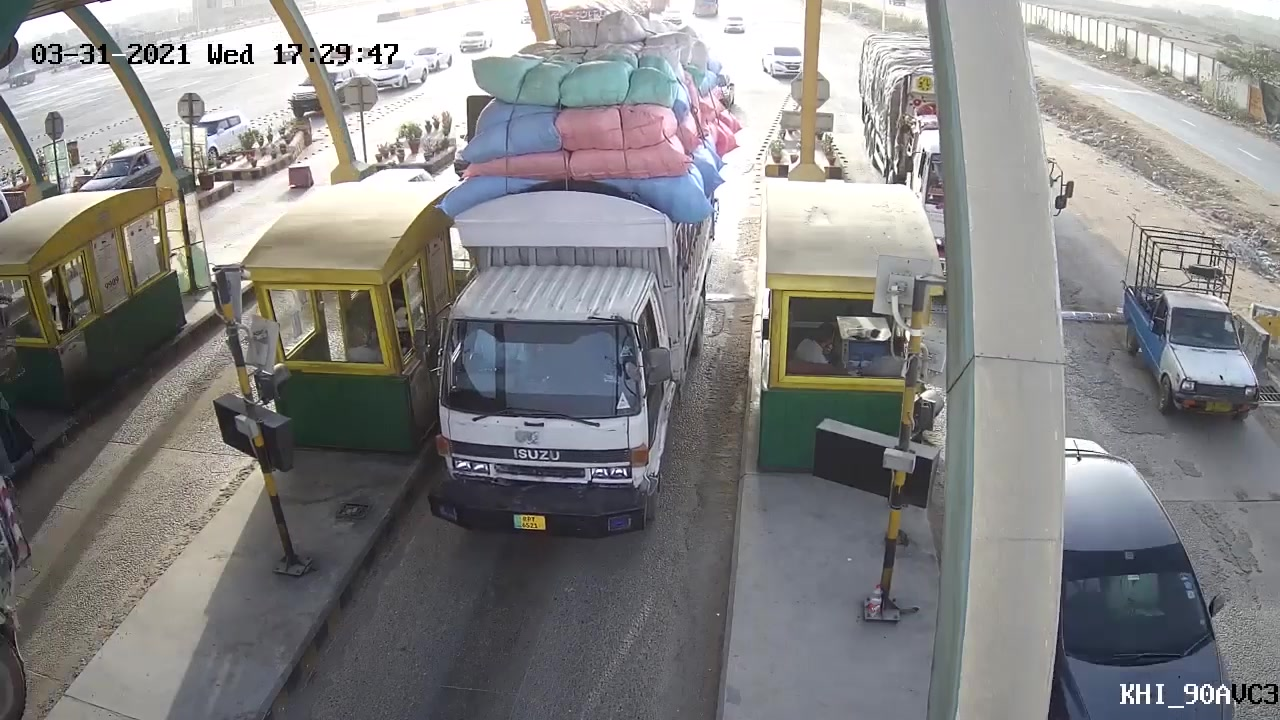F5: (430, 22, 732, 540)
